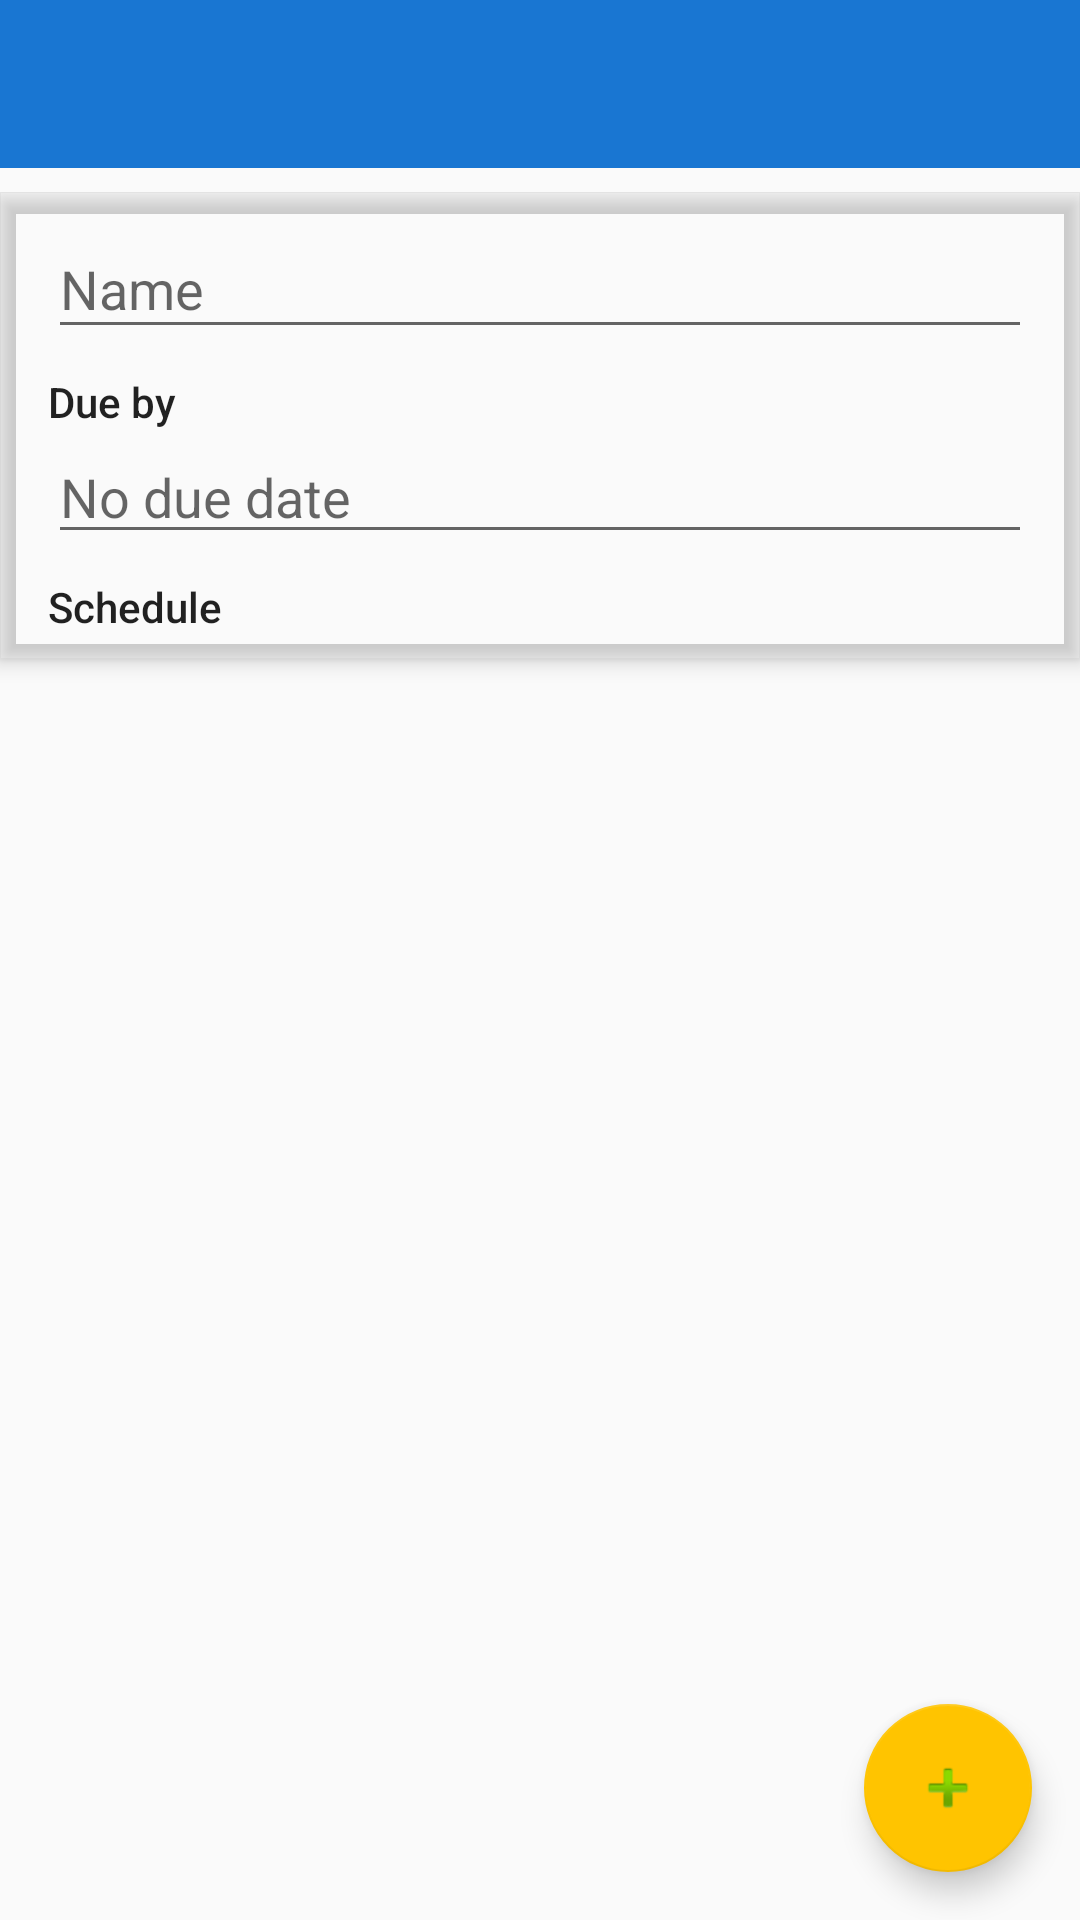

Screen size 1080px×1920px. Icon name, then its box in pixels as (left=x1, top=y1, right=x2, bottom=y2):
add: (left=864, top=1704, right=1032, bottom=1872)
